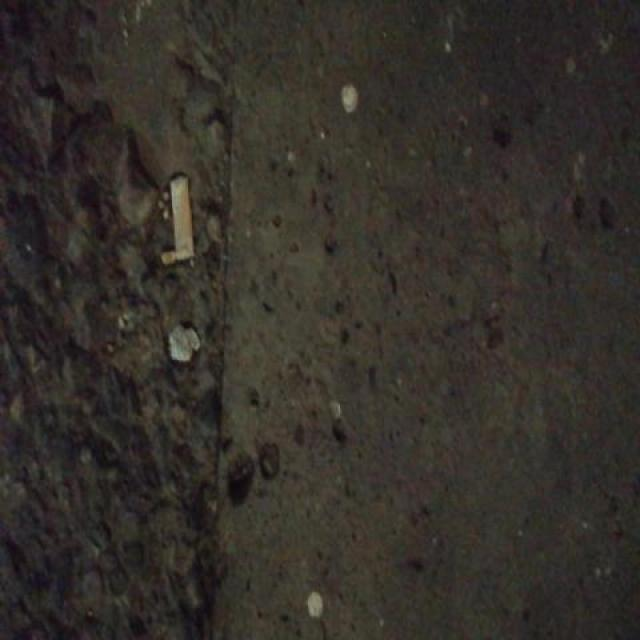non-organic waste: (164, 170, 200, 267)
